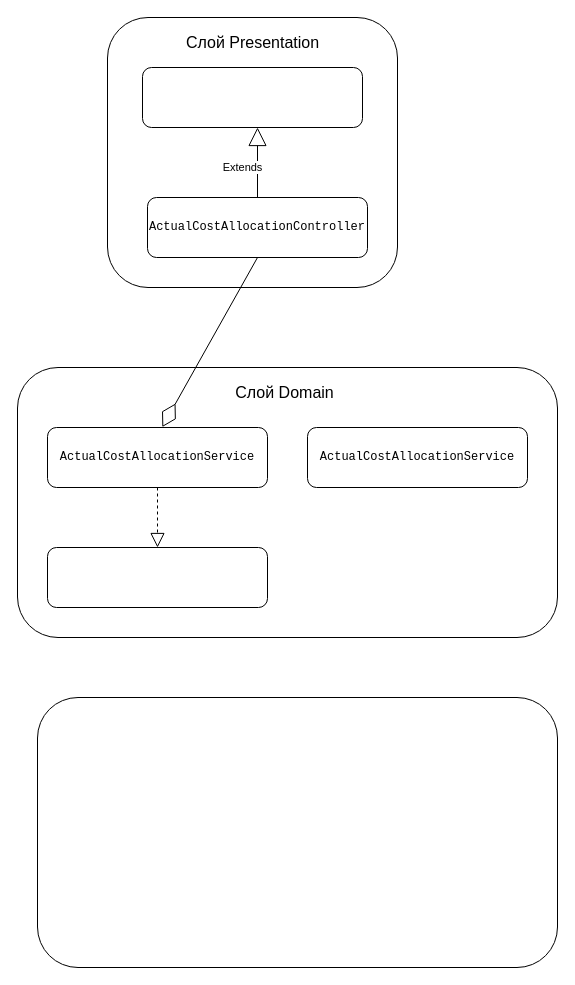
The diagram is 575 pixels wide and 985 high, and some of its shapes have lost their labels. The shapes that lost their labels are listed below. From the top down, each one's centre as x and y in pixels, then its label:
the point at 252,97: AbstructCrudController
the point at 157,577: IActualCostAllocationService
